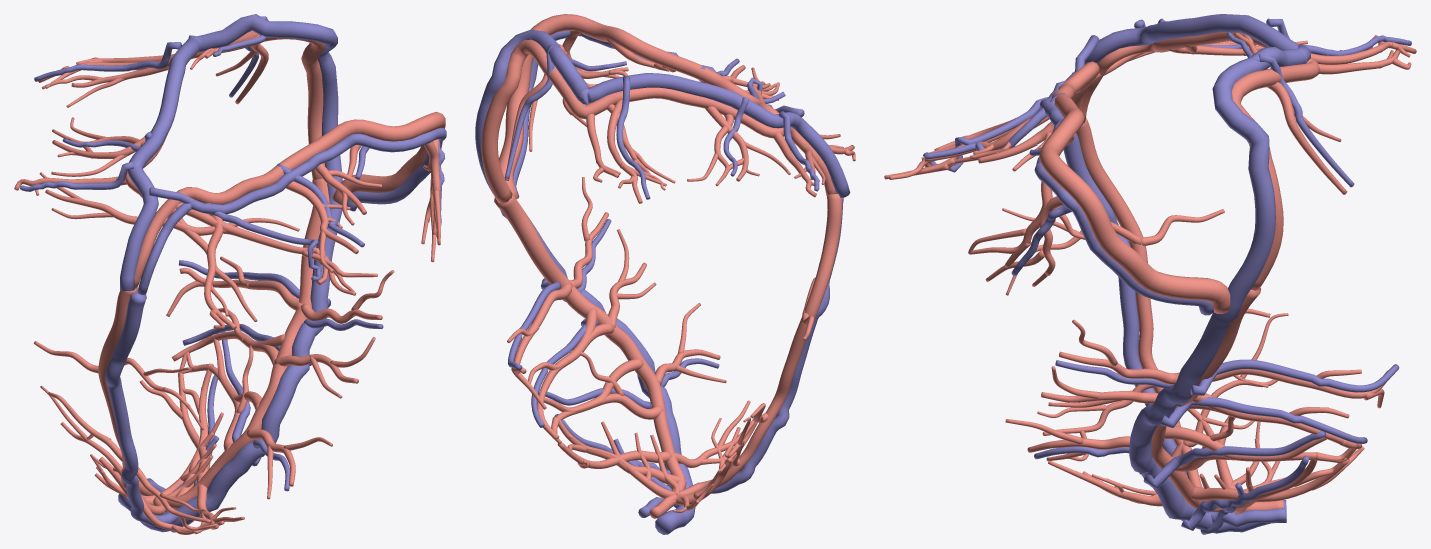
The model's file is vessels_31.glb.
3 views of the same model, side by side, from view 1: azimuth 30°, elevation 25°; view 2: azimuth 150°, elevation 25°; view 3: azimuth 270°, elevation 25° (orthographic). The views are drawn at different scales.
Visible parts, largest first — view 1: Renderer Node; view 2: Renderer Node; view 3: Renderer Node.
Part boxes in pixels (x1,y1,x2,y2): Renderer Node: [14, 14, 446, 534]; Renderer Node: [475, 14, 855, 534]; Renderer Node: [884, 14, 1416, 534].
Bounding box in the file's own units: 88.91 × 109 × 96.22.
